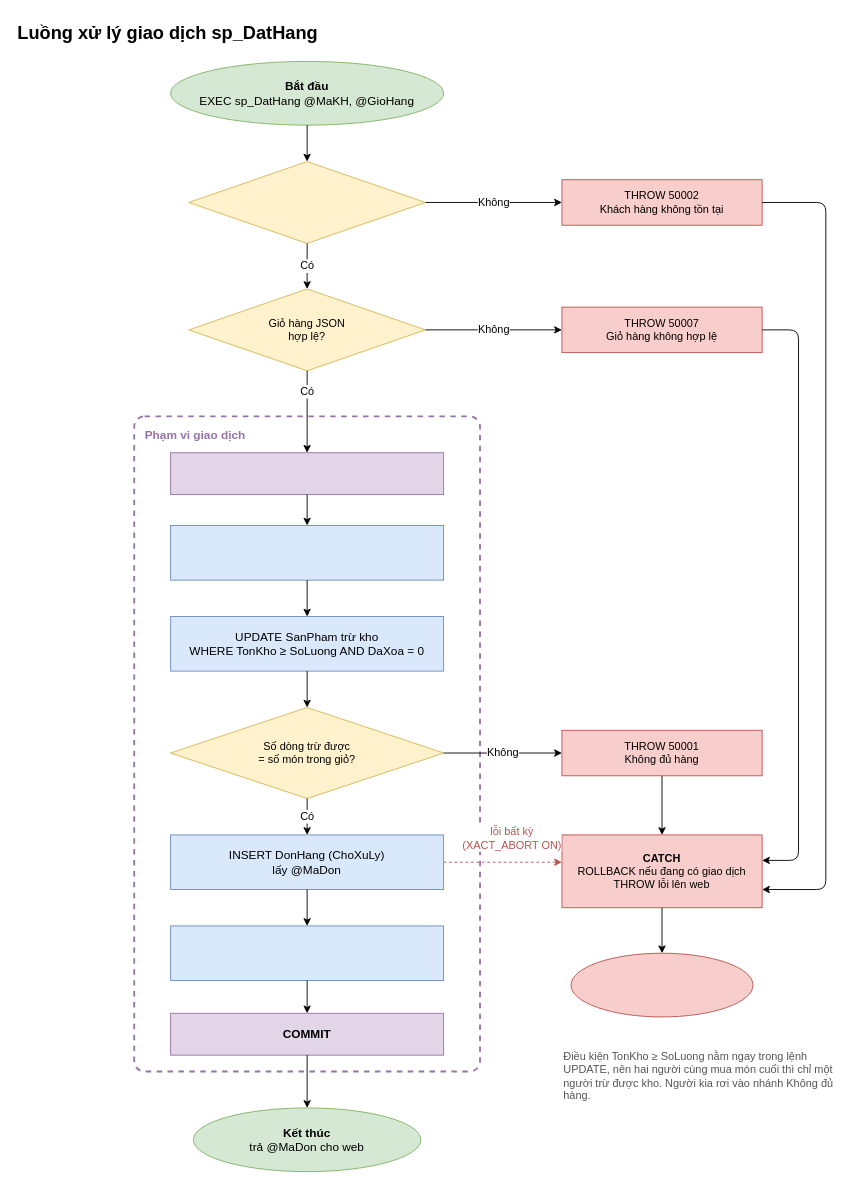
The diagram is 850 pixels wide and 1188 high, and some of its shapes have lost their labels. The shapes that lost their labels are listed below. From the top down, each one's box as (x1, y1, x2, y2) in pixels, then its label:
(188, 161, 425, 243): Khách hàng tồn tại?
(170, 452, 444, 495): BEGIN TRAN
(170, 525, 444, 580): Gộp giỏ hàng vào @Hang (cộng SoLuong theo MaSP)
(170, 925, 444, 981): INSERT ChiTietDonHang DonGia = giá hiện tại
(570, 952, 753, 1017): Kết thúc lỗi web báo lỗi, kho không đổi
